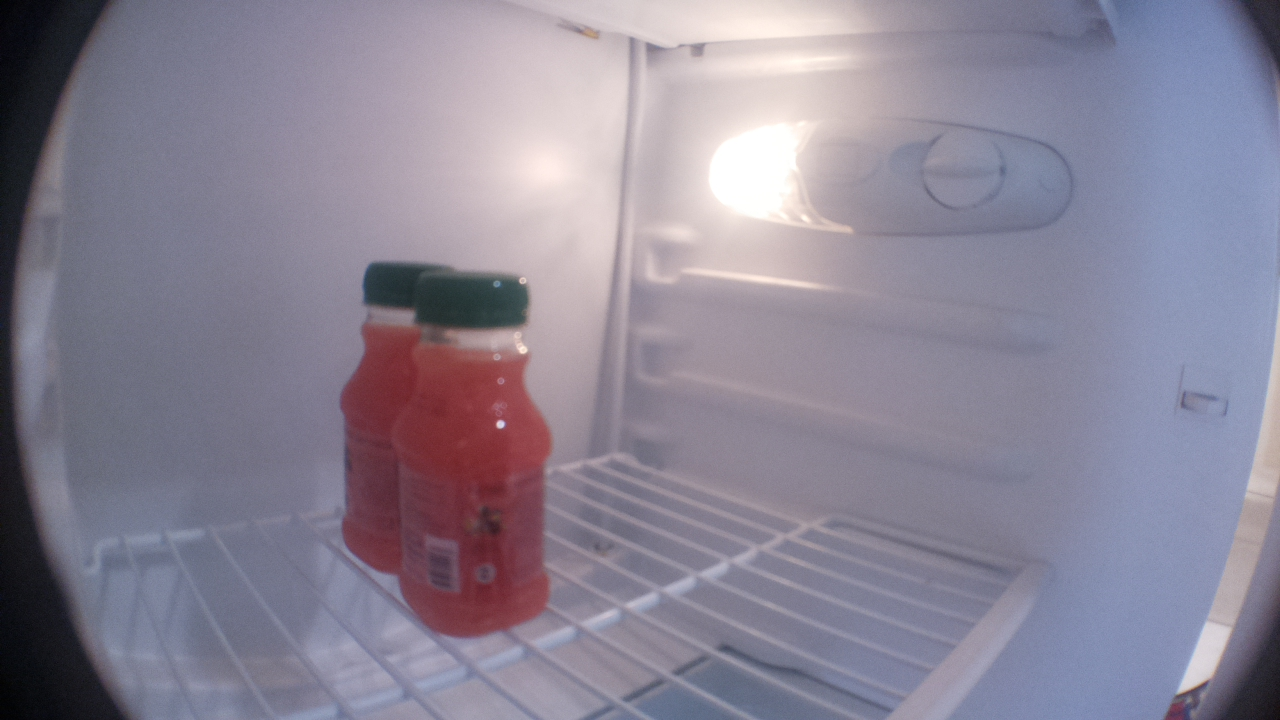juice: (389, 270, 554, 643), (326, 249, 400, 582)
